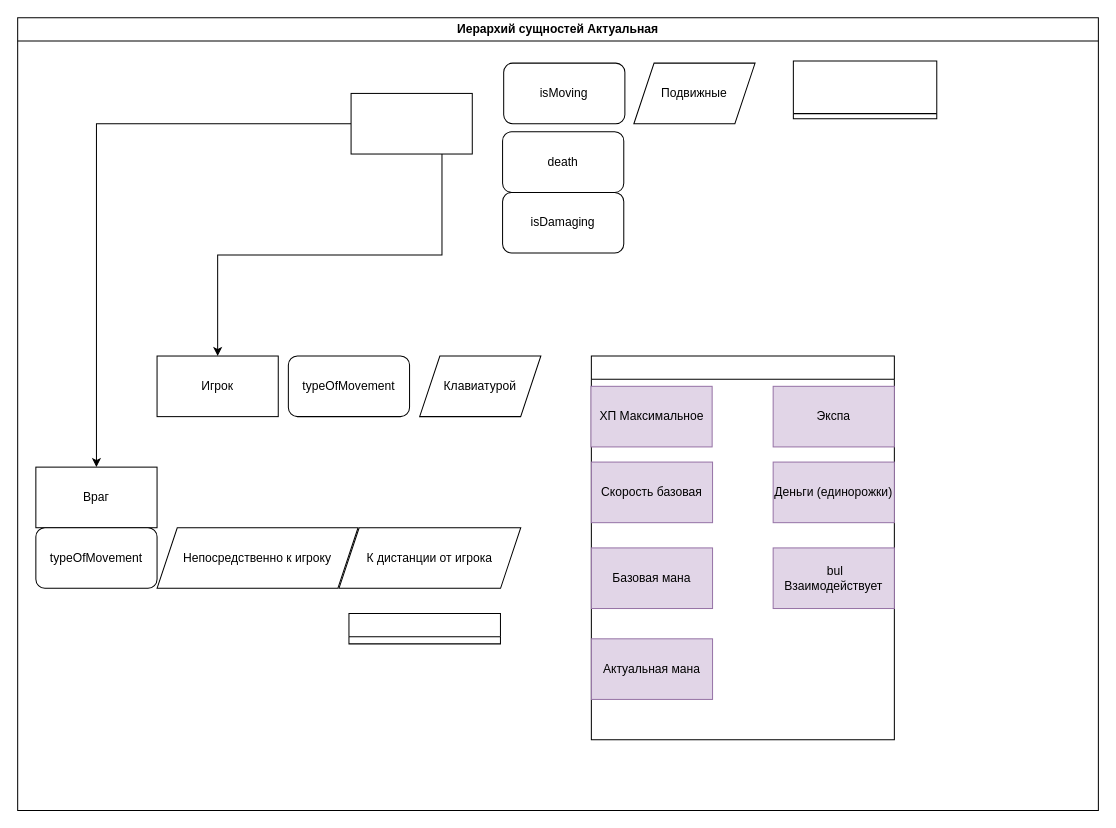
Image size: 1116x828. Some labels were removed from this diagram. The shapes that lost their labels are listed below. From the top down, each one's box as (x1, y1, x2, y2) in pixels, then its label:
(792, 60, 937, 119): Переменные Персонажей
(350, 92, 472, 154): Персонажи
(590, 355, 894, 740): Переменные ГГ
(348, 613, 500, 644): Переменные Врага
